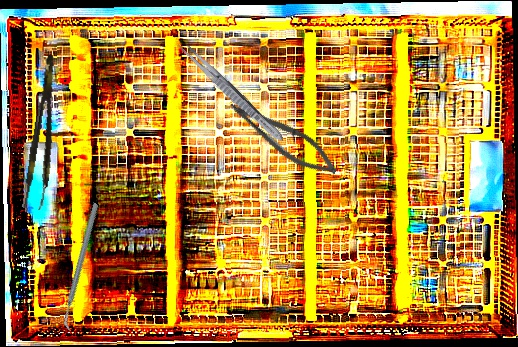Chopper: (21, 201, 143, 332)
Dressing Forceps: (174, 38, 288, 146)
Micro Scissor: (221, 94, 345, 184)
Tissue Forceps: (21, 54, 68, 211)
